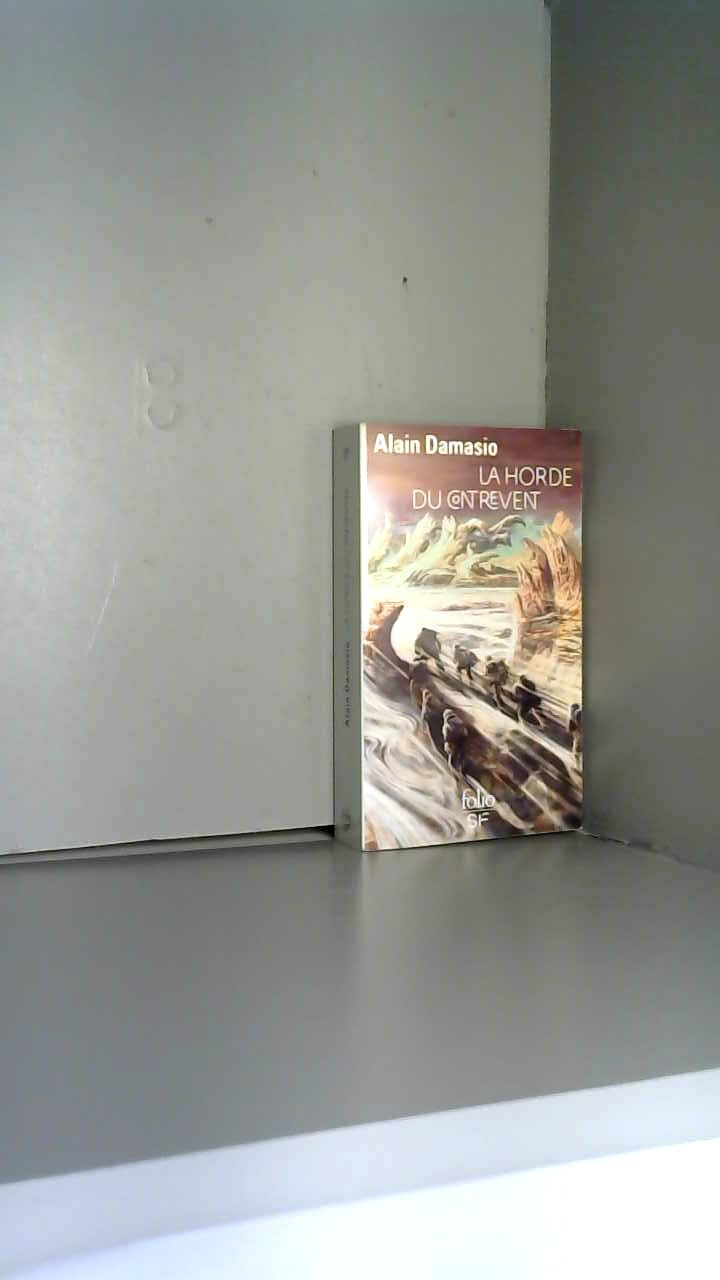book: (311, 402, 600, 867)
